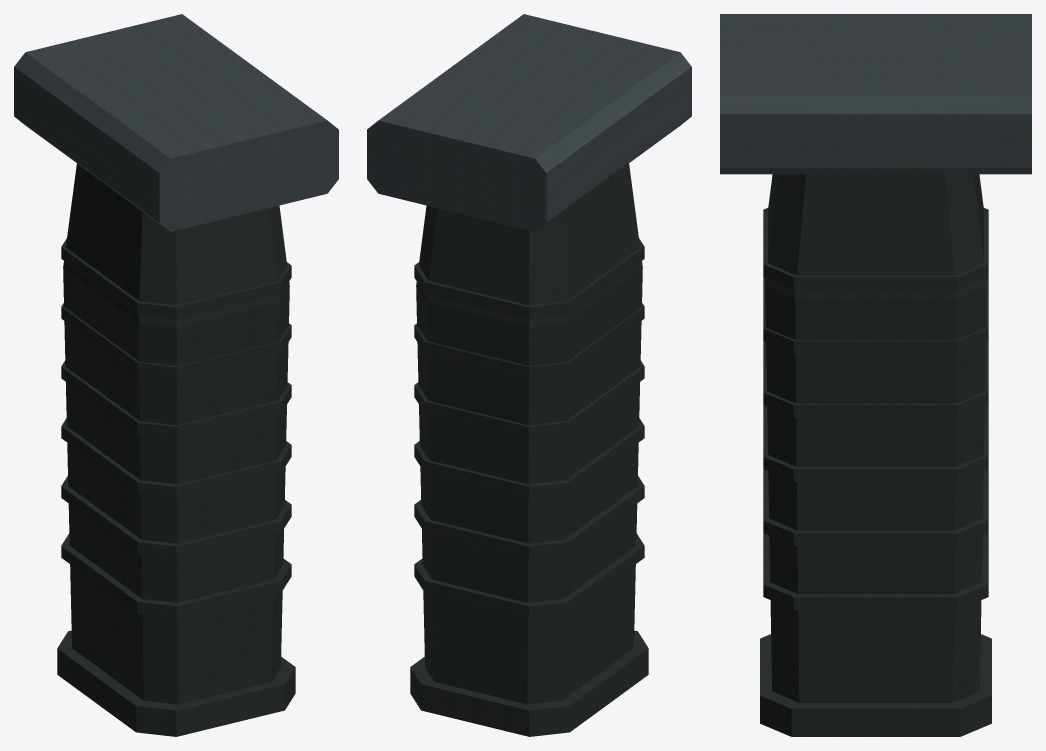
The model's file is fore_vertical.glb.
3 views of the same model, side by side, from view 1: azimuth 30°, elevation 25°; view 2: azimuth 150°, elevation 25°; view 3: azimuth 270°, elevation 25° (orthographic). The views are drawn at different scales.
Visible parts, largest first — view 1: fore_vertical_faceted_handle, fore_vertical_rail_clamp; view 2: fore_vertical_faceted_handle, fore_vertical_rail_clamp; view 3: fore_vertical_faceted_handle, fore_vertical_rail_clamp.
Part boxes in pixels (x1,y1,x2,y2): fore_vertical_faceted_handle: (57, 163, 295, 736); fore_vertical_rail_clamp: (14, 14, 338, 231); fore_vertical_faceted_handle: (410, 163, 648, 736); fore_vertical_rail_clamp: (367, 14, 691, 231); fore_vertical_faceted_handle: (760, 174, 991, 736); fore_vertical_rail_clamp: (720, 14, 1031, 174).
Bounding box in the file's own units: 0.064 × 0.204 × 0.09.
Materials: 2 (2 with a texture image).
